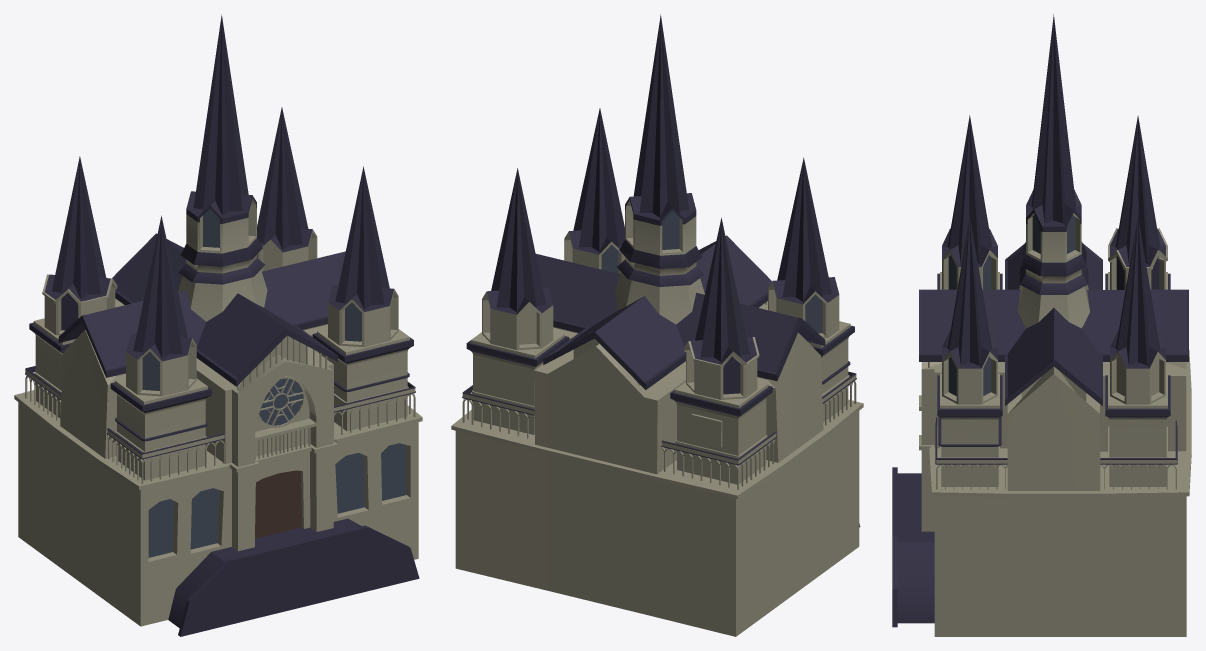
Rendered from CatedralManizales.fbx.
3 views of the same model, side by side, from view 1: azimuth 30°, elevation 25°; view 2: azimuth 150°, elevation 25°; view 3: azimuth 270°, elevation 25° (orthographic). The views are drawn at different scales.
Parts seen in each view (by area): view 1: catedral; view 2: catedral; view 3: catedral.
Part boxes in pixels (x1=…): catedral: x1=14, y1=14, x2=422, y2=636; catedral: x1=451, y1=14, x2=863, y2=636; catedral: x1=892, y1=14, x2=1191, y2=636.
Size of the model in its own units: 67.42 by 119 by 58.56.
